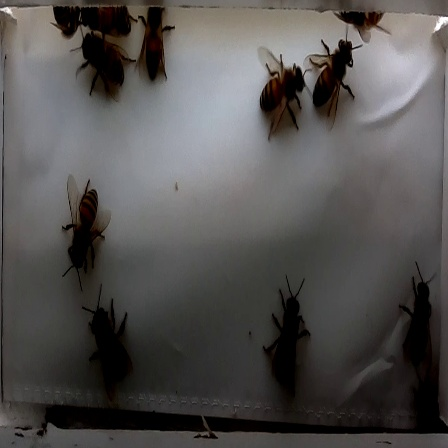bee: (46, 167, 114, 289), (253, 276, 319, 388), (241, 43, 313, 140), (76, 288, 144, 390), (389, 256, 439, 381), (55, 28, 139, 102), (308, 32, 370, 132), (131, 2, 180, 87)
